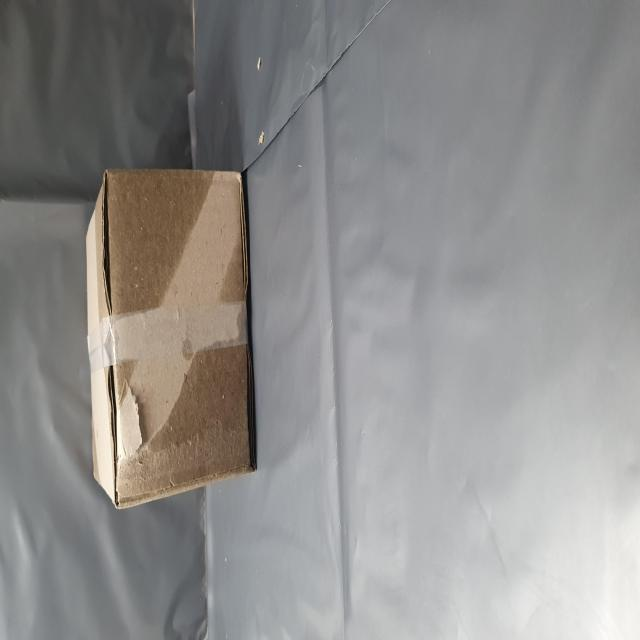wet: (82, 181, 161, 435), (185, 186, 264, 439)
